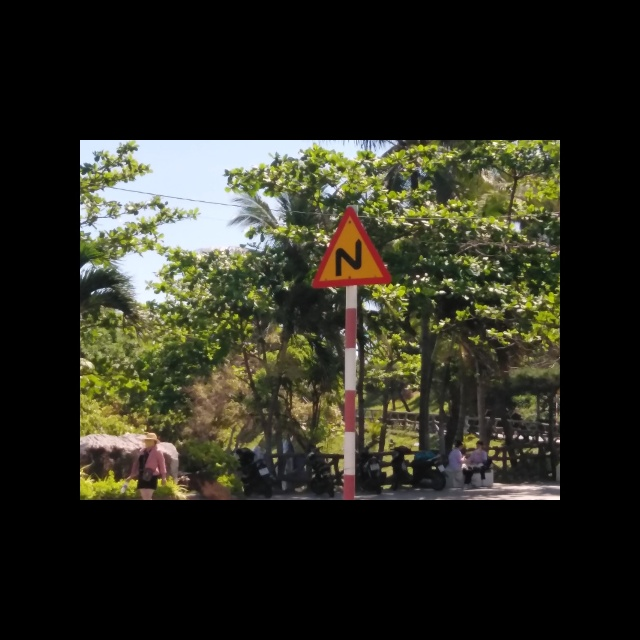Ngoặt nguy hiểm liên tiếp bên phải: (312, 203, 393, 289)
